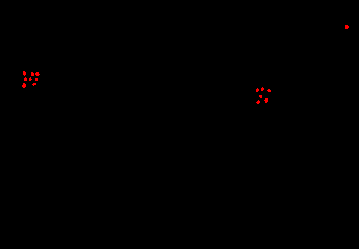Target: (35, 72, 40, 76), (22, 83, 26, 88), (264, 98, 268, 103), (345, 25, 349, 29), (256, 100, 260, 104), (23, 71, 26, 76), (31, 72, 34, 76), (24, 77, 27, 81), (29, 77, 32, 81), (32, 83, 36, 86), (261, 87, 264, 91), (256, 88, 259, 92), (267, 89, 271, 92), (35, 78, 38, 81), (259, 95, 262, 98)
